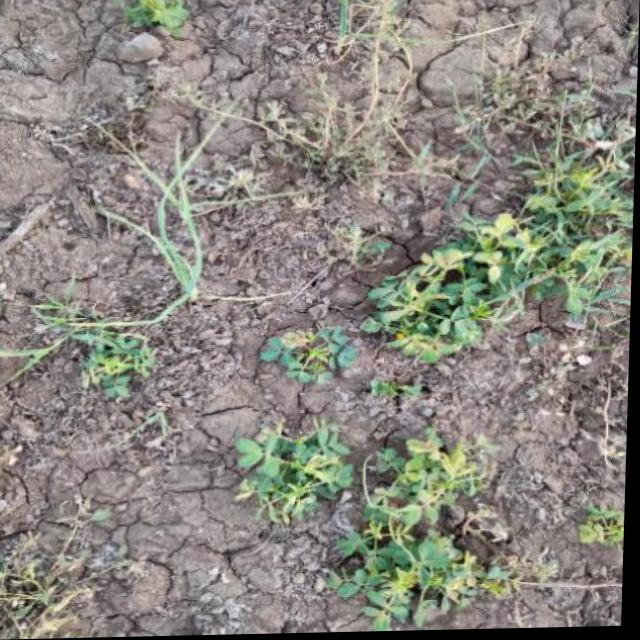weed: (376, 135, 623, 393), (241, 424, 526, 617), (54, 123, 301, 331)
